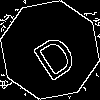D: (25, 25, 81, 83)
